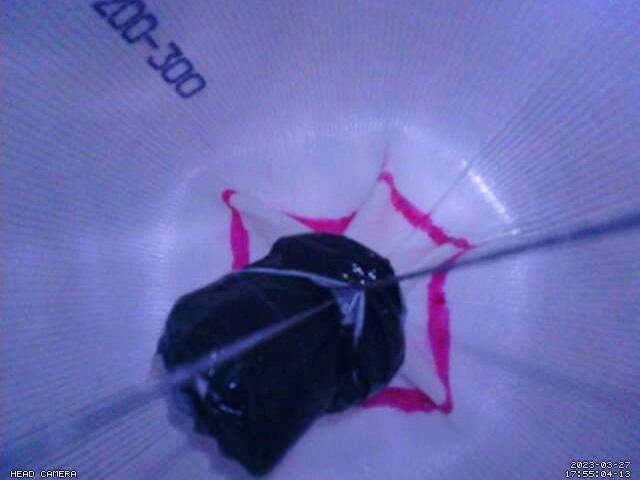red-circle: (220, 169, 472, 415)
